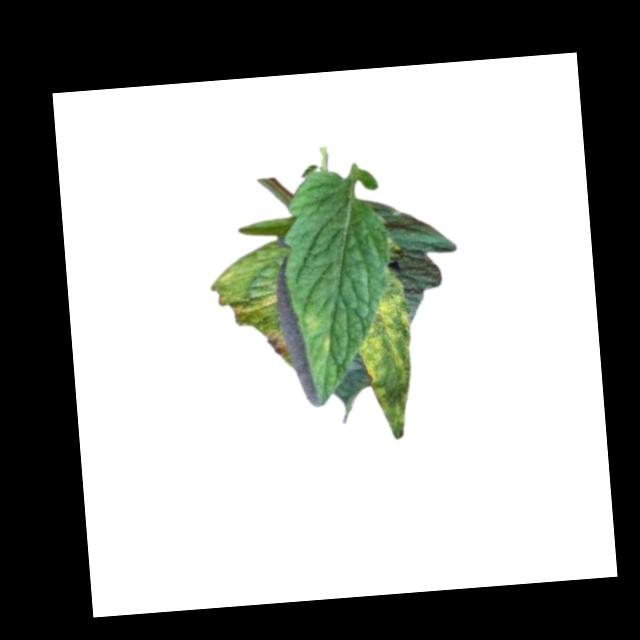Leaf_Mold: (353, 278, 418, 423), (206, 262, 289, 360), (299, 306, 335, 361)
